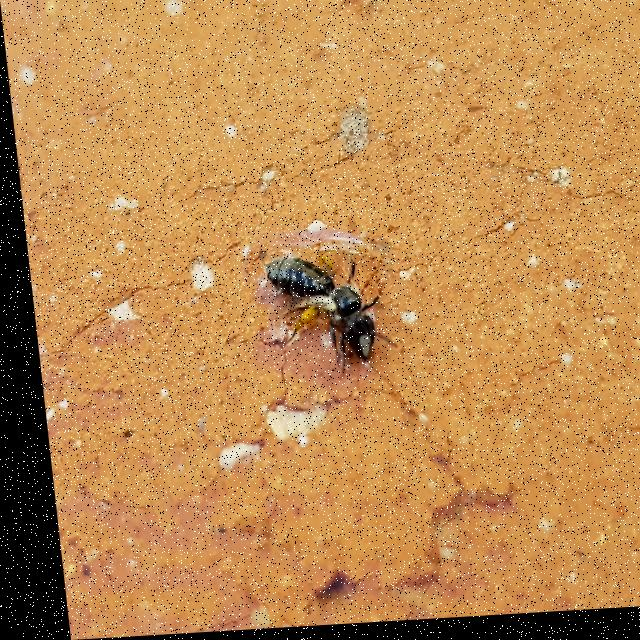Braunsapis: (243, 230, 400, 397)
